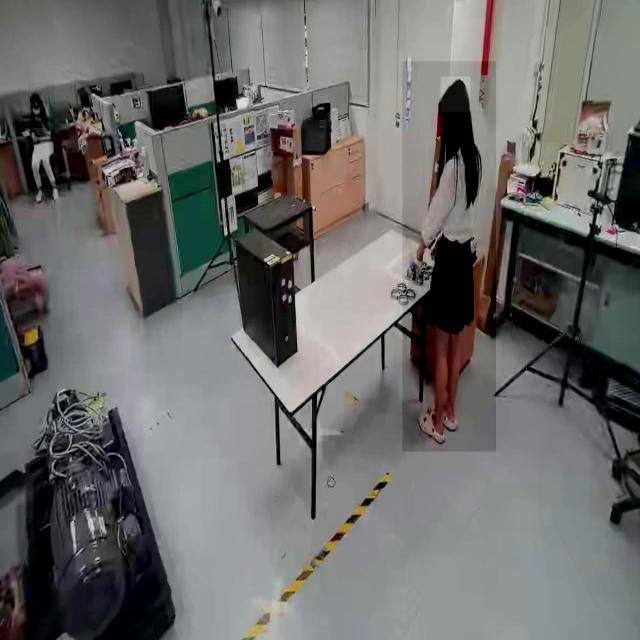face_mask: (32, 100, 44, 128)
hand_glove: (406, 235, 426, 278)
head_nohelmet: (440, 76, 470, 113), (30, 92, 42, 100)
person: (402, 61, 496, 452), (27, 82, 55, 210)
